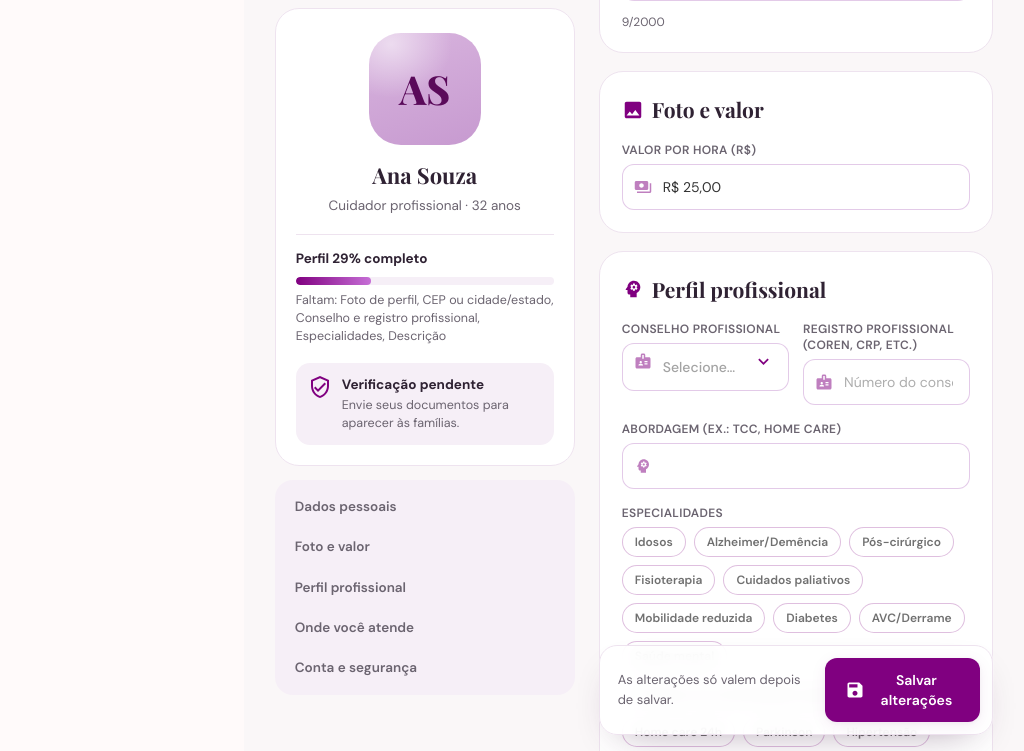
Scenario: Página de Perfil › mostra o erro de par conselho/registro no campo, não no banner genérico
(page scrolled)
Step 1. Click the dropdown named "Conselho profissional" → (705, 367), box [622, 343, 789, 391]
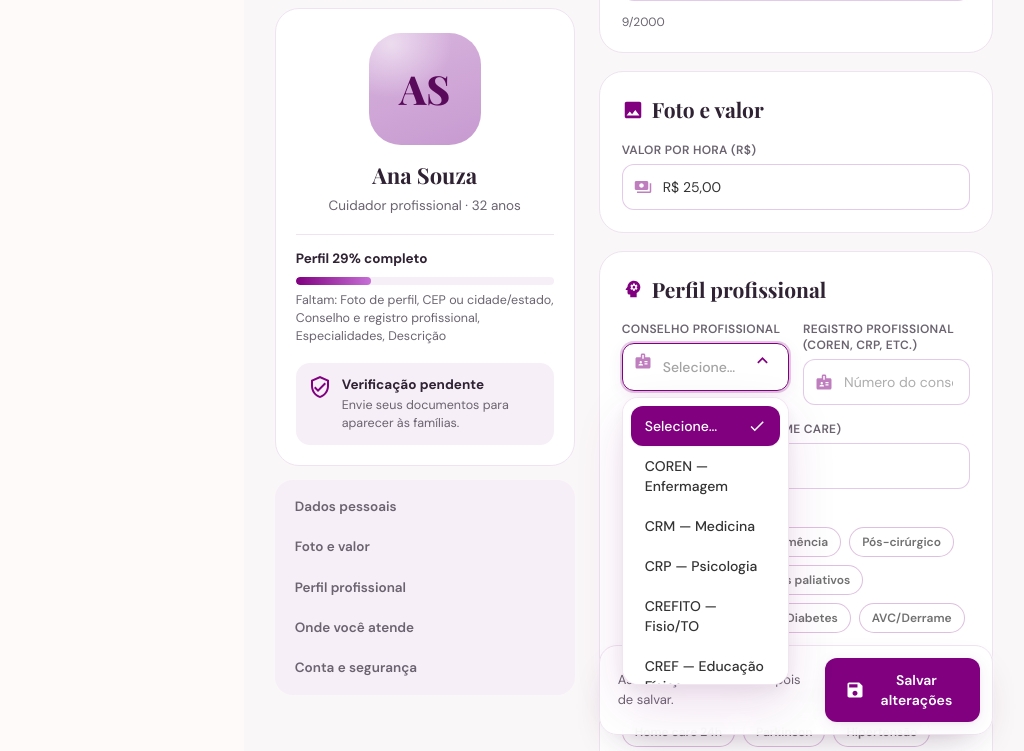
Step 2. Click the option "COREN — Enfermagem" → (705, 476), box [631, 446, 780, 506]
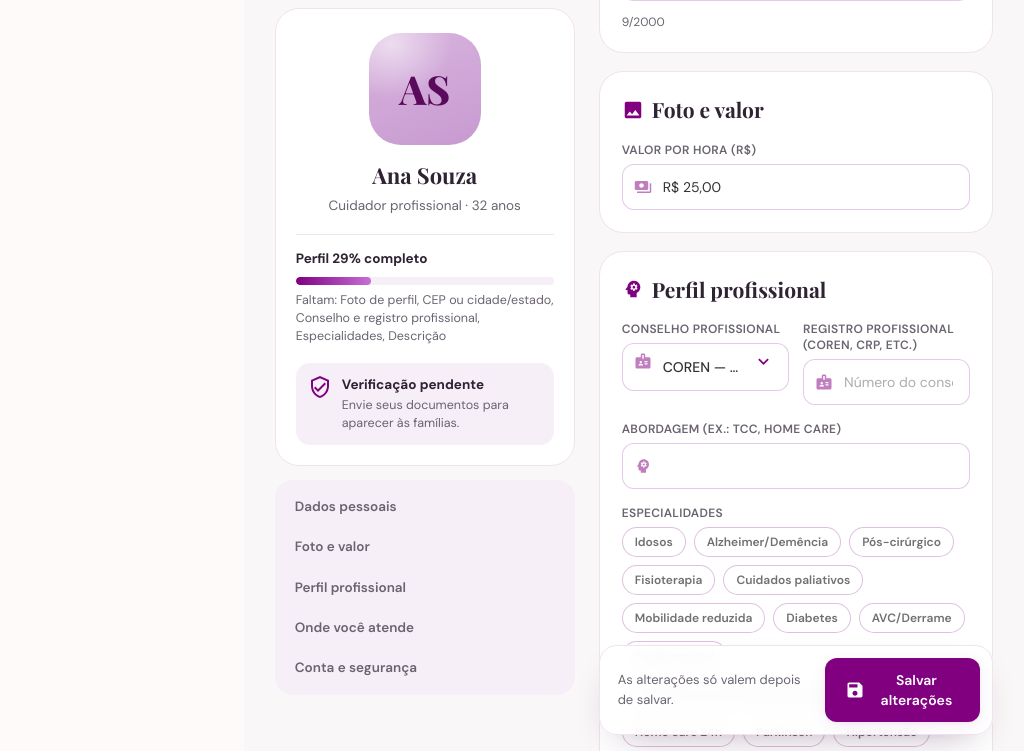
Step 3. Click the button "Salvar alterações" → (902, 690), box [825, 658, 980, 722]
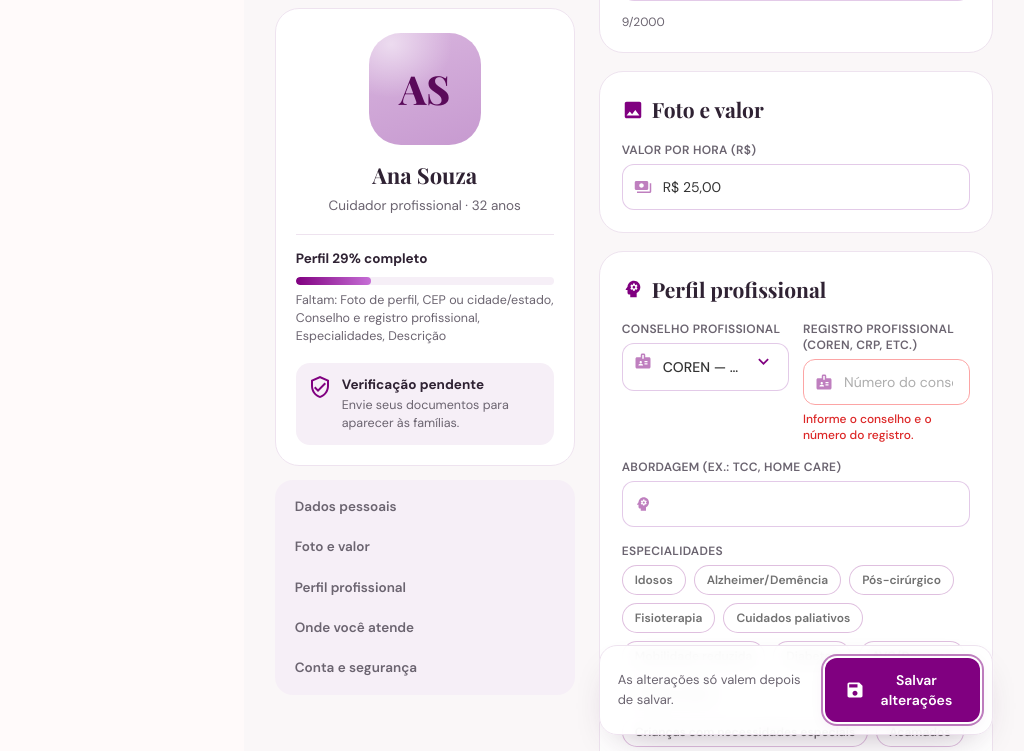
Now the text "Informe o conselho e o número do registro." is shown, box [803, 411, 932, 443]
